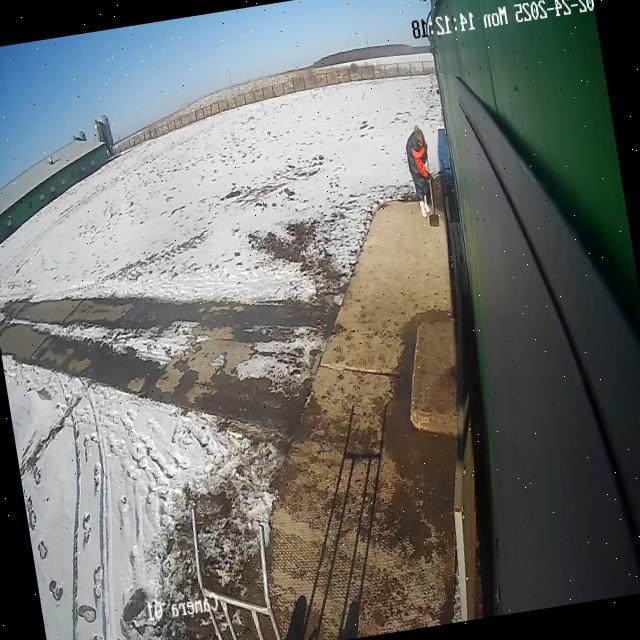Red uniform: (400, 122, 441, 223)
